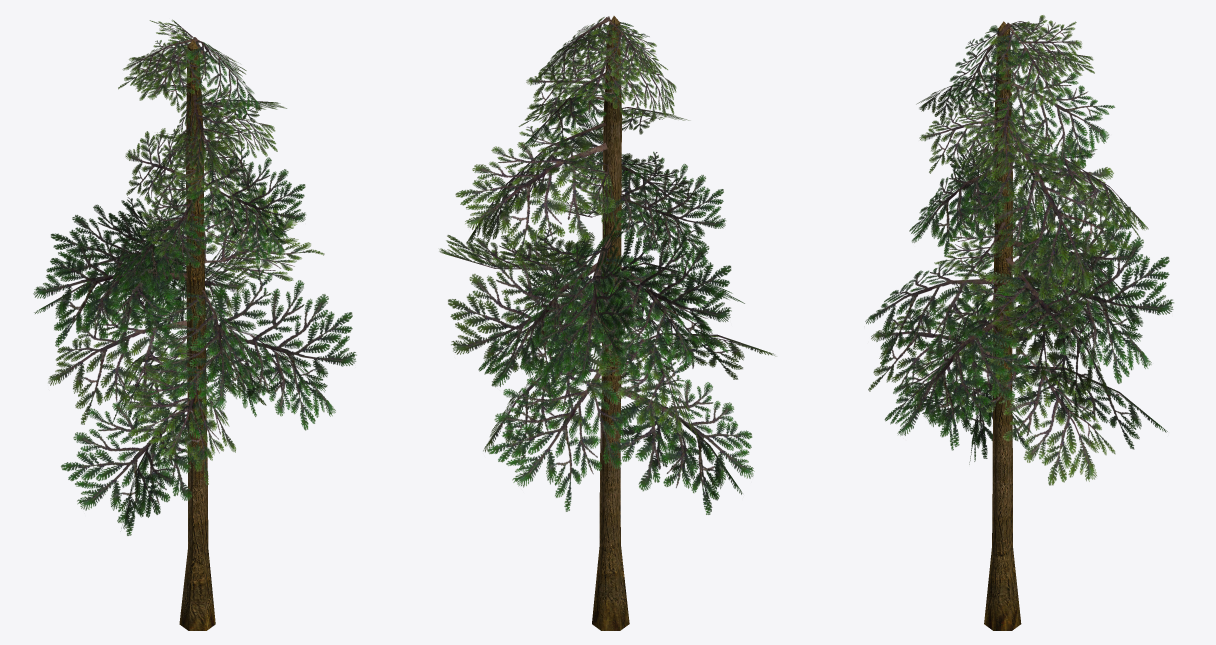
Rendered from tree3_3.glb.
3 views of the same model, side by side, from view 1: azimuth 30°, elevation 25°; view 2: azimuth 150°, elevation 25°; view 3: azimuth 270°, elevation 25° (orthographic). The views are drawn at different scales.
Parts seen in each view (by area): view 1: tree3_3; view 2: tree3_3; view 3: tree3_3.
Part boxes in pixels (box(x1,y1,x2,y2)): tree3_3: box(33, 19, 356, 630); tree3_3: box(439, 16, 776, 630); tree3_3: box(865, 15, 1173, 630).
Bounding box in the file's own units: 10.34 × 18.14 × 9.81.
3 materials, 3 textured.
